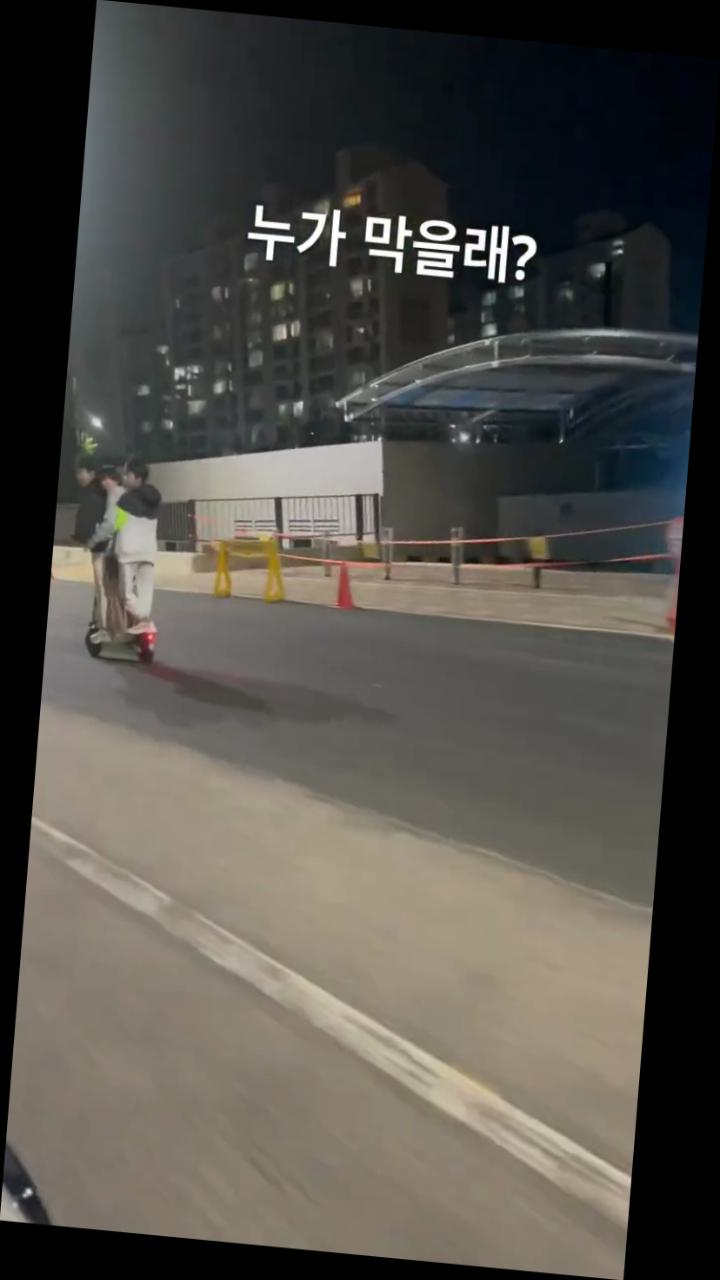multiple: (54, 449, 178, 670)
